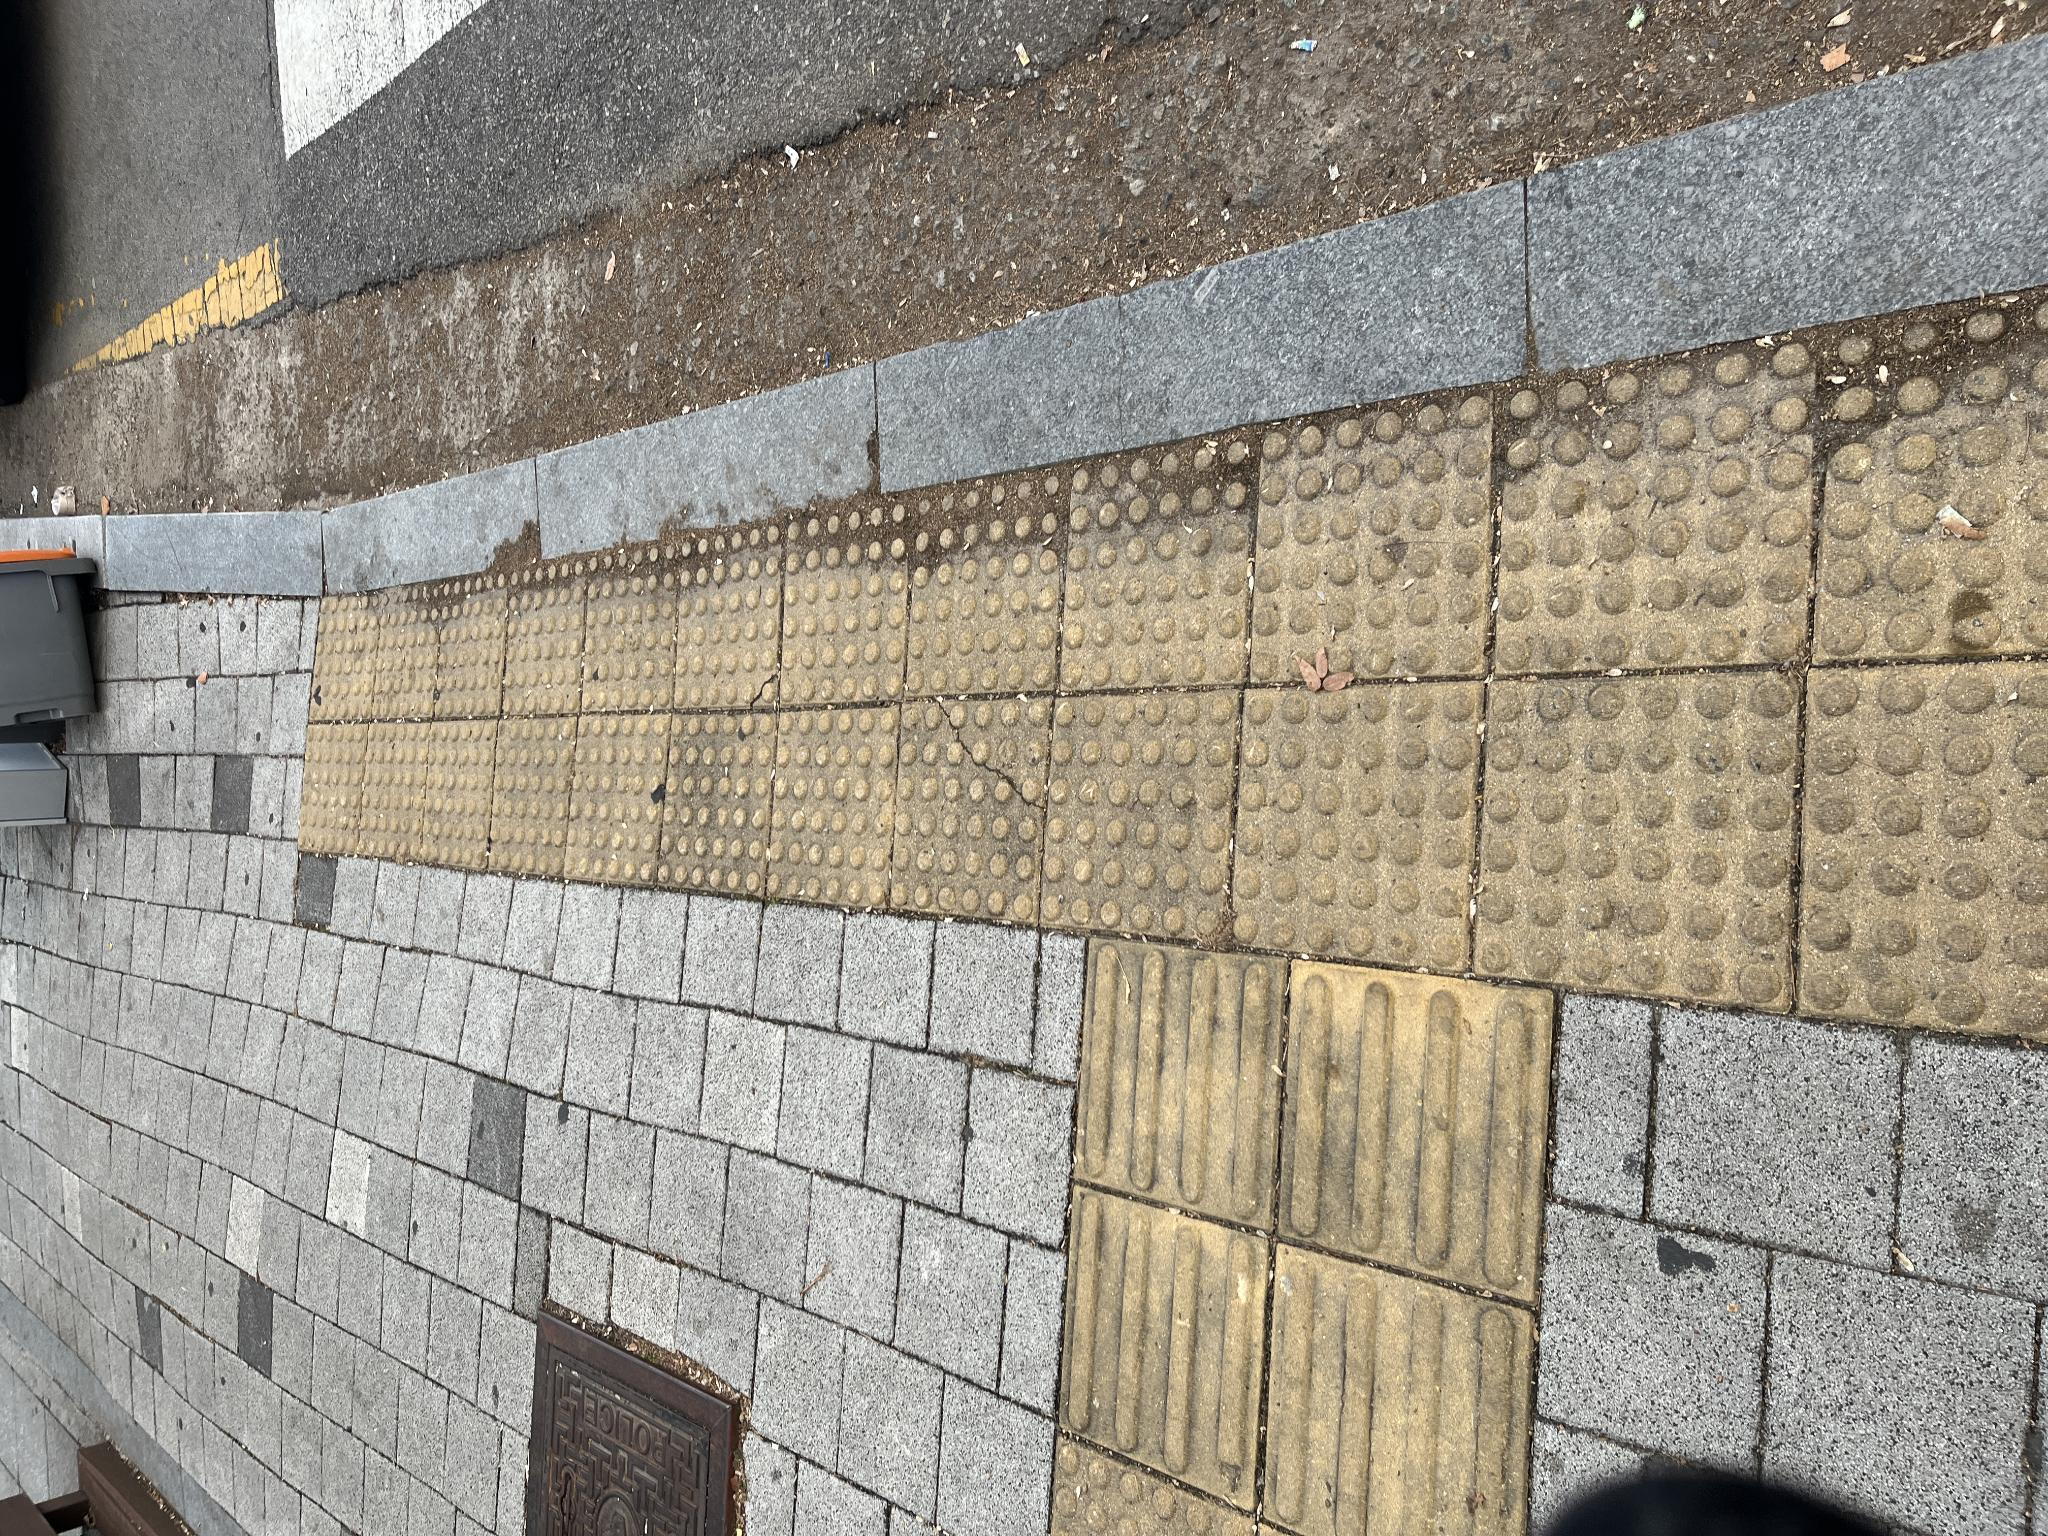Stop block broken: (613, 891, 839, 1050)
Stop block normal: (564, 1229, 853, 1480), (628, 767, 832, 897)
